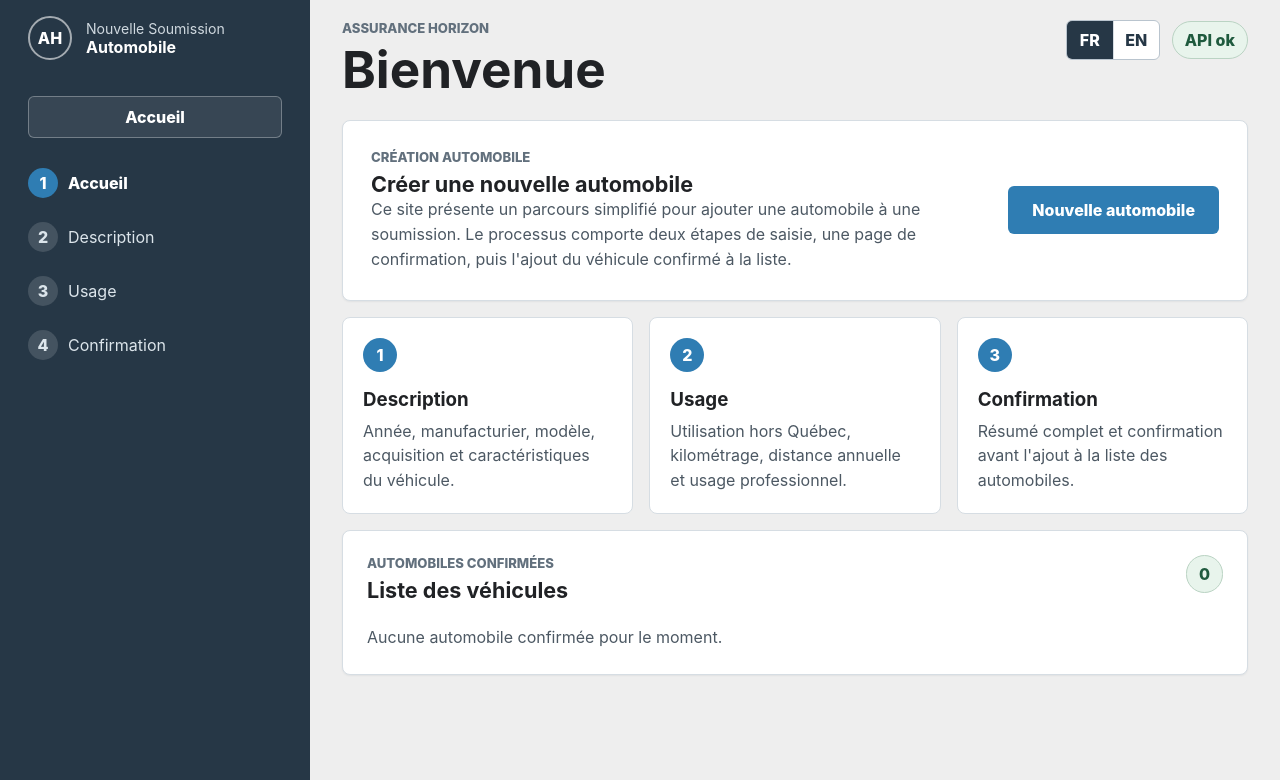
Test: App › shows required description fields before moving to usage
Click the button "Nouvelle automobile": (1114, 210) [1008,186,1219,234]
(page scrolled)
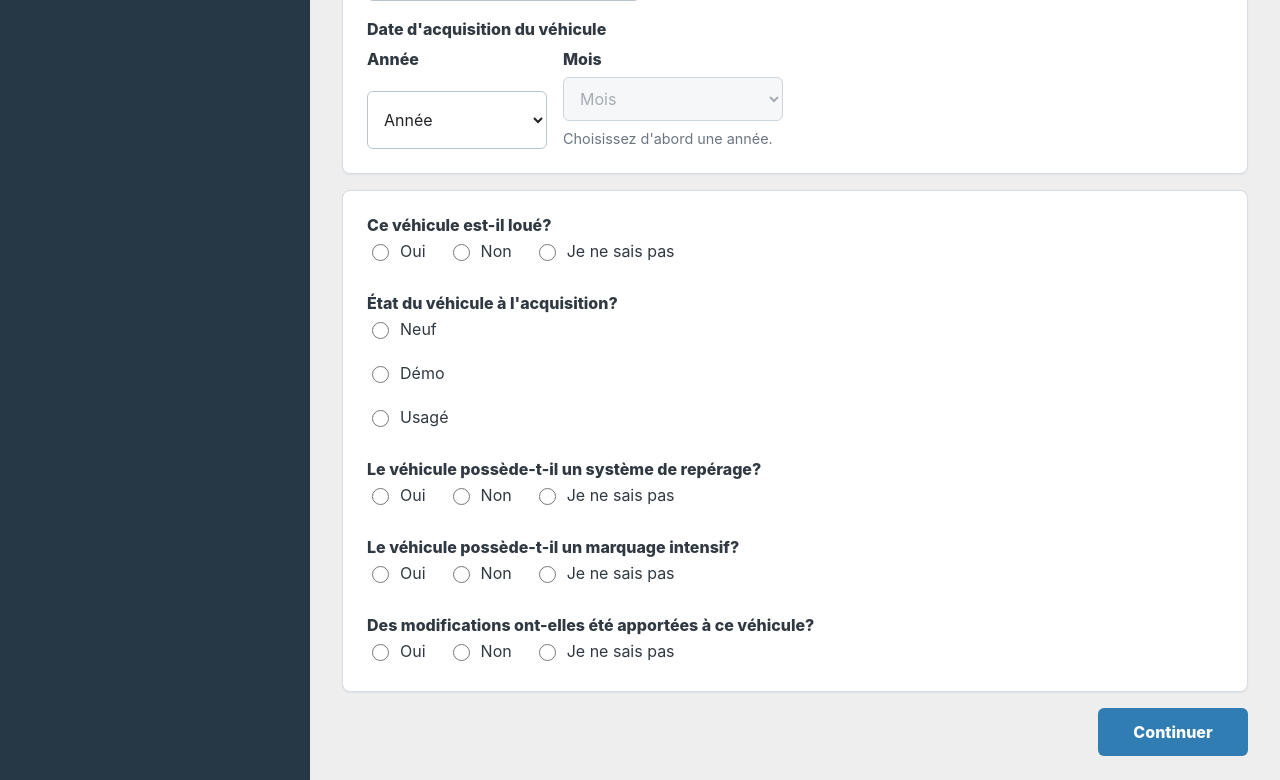
Click the button "Continuer": (1173, 732) [1098,708,1248,756]
(page scrolled)
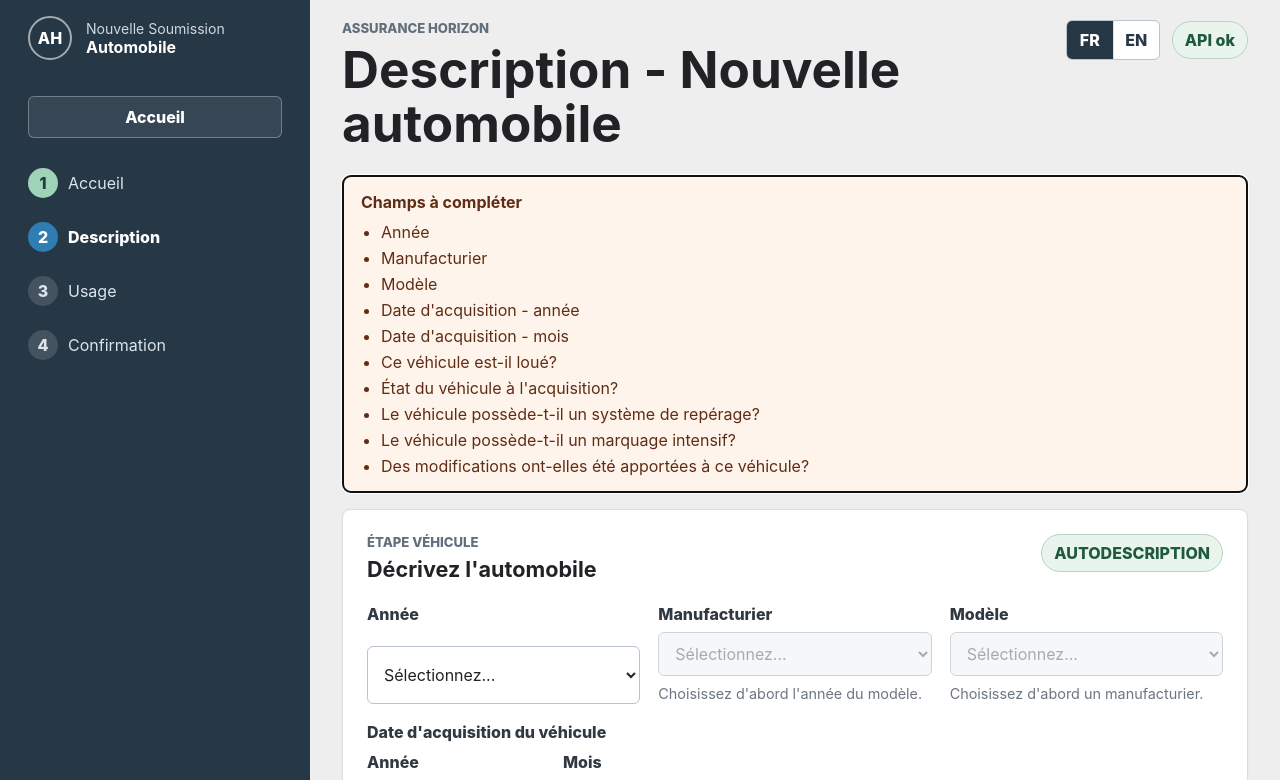
Now the message shows "Champs à compléter", box [361,192,522,212]
Now the list item "Manufacturier" is shown, box [381,248,487,268]
Now the list item "Date d'acquisition - mois" is shown, box [381,326,569,346]
